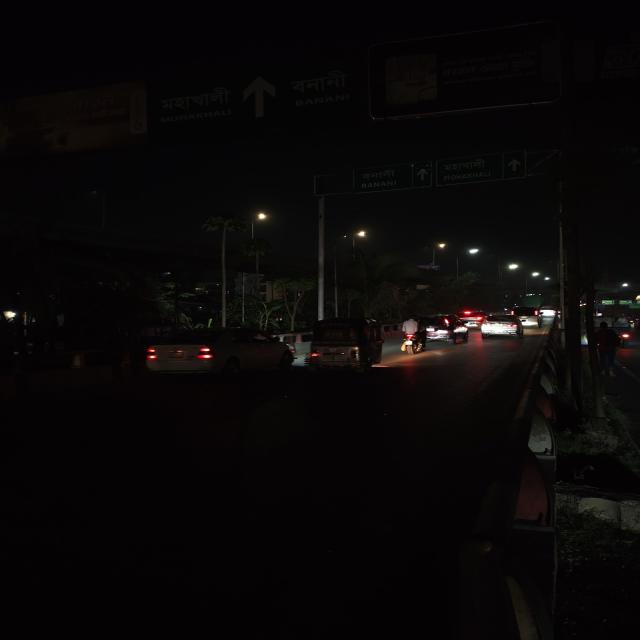car: (140, 326, 292, 384), (481, 313, 524, 339), (511, 305, 545, 327)
cng: (302, 315, 386, 375), (426, 314, 470, 344)
motorcycle: (398, 321, 430, 355)
pedestrian: (593, 321, 622, 377)
